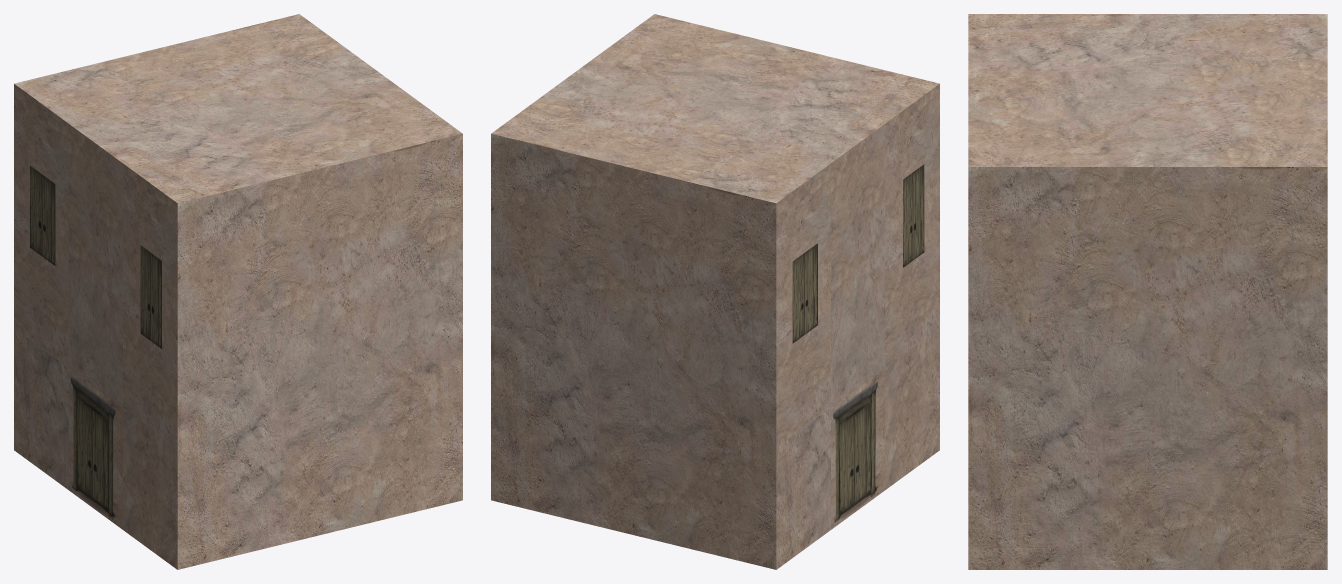
File: DesertBHouse.FBX
The picture shows the model from 3 angles, left to right: view 1: azimuth 30°, elevation 25°; view 2: azimuth 150°, elevation 25°; view 3: azimuth 270°, elevation 25°; orthographic projection. The views are drawn at different scales.
Visible parts, largest first — view 1: Object002; view 2: Object002; view 3: Object002.
Part boxes in pixels (x1,y1,x2,y2): Object002: (14, 14, 462, 569); Object002: (491, 14, 939, 569); Object002: (968, 14, 1327, 569).
Size of the model in its own units: 52.67 by 64.66 by 52.28.
1 material, 1 textured.
